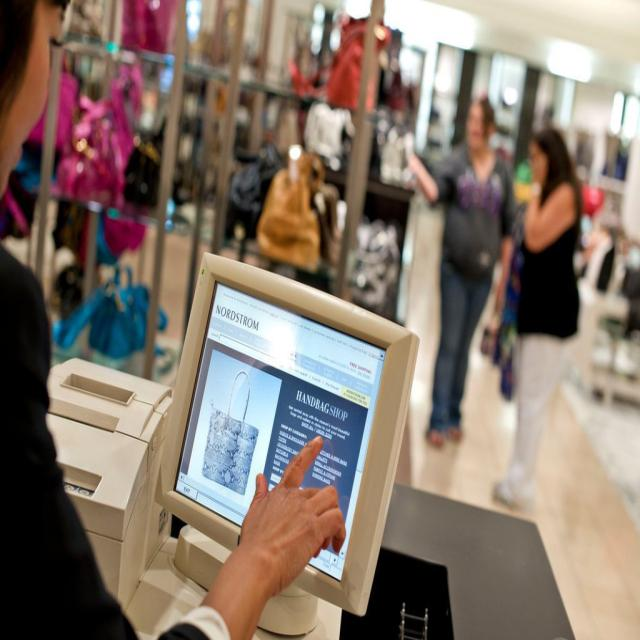body: (1, 0, 348, 640), (487, 119, 591, 522), (404, 90, 516, 451), (510, 123, 568, 410)
